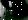person: (1, 1, 6, 16), (8, 3, 14, 15)
